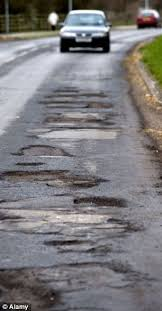pothole: (3, 207, 126, 252), (6, 255, 95, 305), (9, 161, 101, 194), (42, 111, 120, 133), (15, 135, 79, 161), (40, 94, 122, 107), (71, 198, 137, 212)
